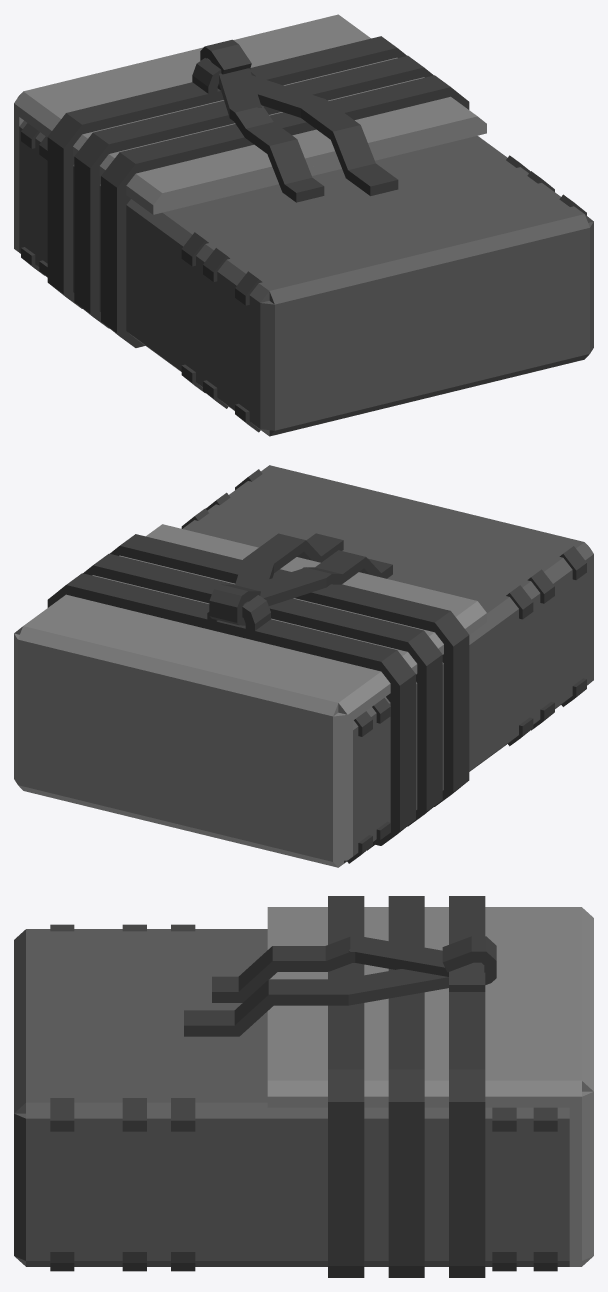
Rendered from backpack.glb.
The picture shows the model from 3 angles, top to bottom: view 1: azimuth 30°, elevation 25°; view 2: azimuth 150°, elevation 25°; view 3: azimuth 270°, elevation 25°; orthographic projection. The views are drawn at different scales.
Visible parts, largest first — view 1: Voxels-5F5F5F; view 2: Voxels-5F5F5F; view 3: Voxels-5F5F5F.
Part boxes in pixels (x1=…): Voxels-5F5F5F: x1=14, y1=14, x2=593, y2=436; Voxels-5F5F5F: x1=14, y1=465, x2=593, y2=867; Voxels-5F5F5F: x1=14, y1=896, x2=593, y2=1277.
Size of the model in its own units: 0.4156 by 0.2443 by 0.525.
1 material, 1 textured.
